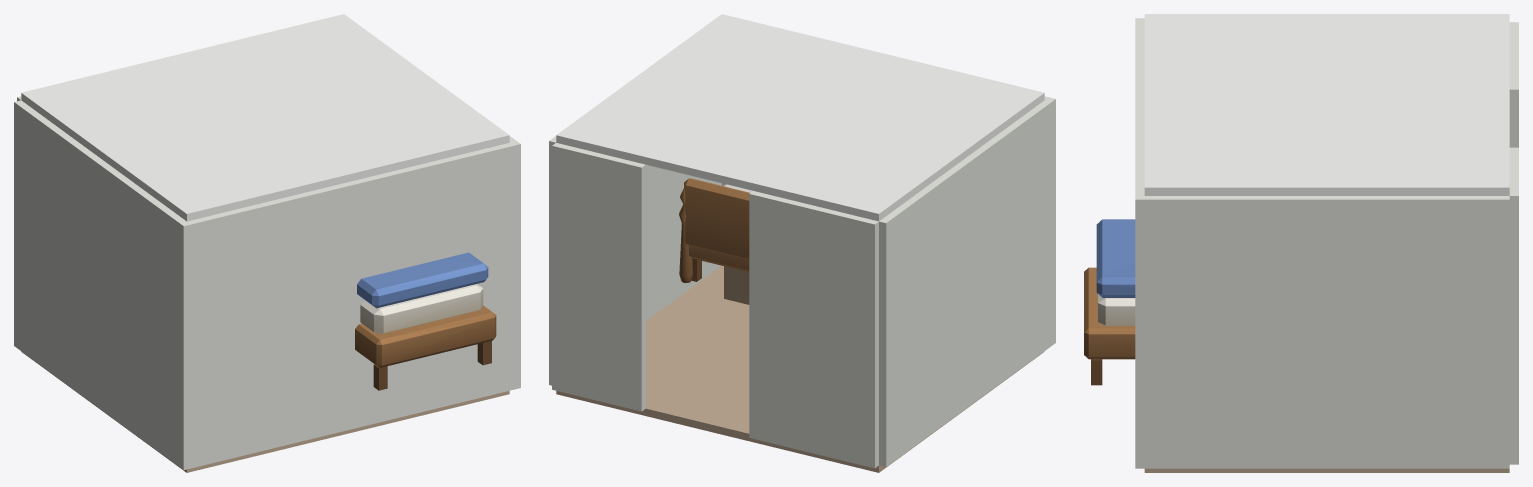
Rendered from y2-007-od-bedroom.glb.
The picture shows the model from 3 angles, left to right: view 1: azimuth 30°, elevation 25°; view 2: azimuth 150°, elevation 25°; view 3: azimuth 270°, elevation 25°; orthographic projection. The views are drawn at different scales.
Parts seen in each view (by area): view 1: BedroomWall_Back, BedroomCeiling, BedroomWall_Left, int_bed_01, BedroomFloor; view 2: BedroomCeiling, BedroomWall_Left, BedroomWall_FrontL, BedroomWall_FrontR, BedroomFloor, BedroomWall_Right, int_bed_01, BedroomWall_Back, Nightstand; view 3: BedroomWall_Right, BedroomCeiling, int_bed_01, BedroomWall_Back, BedroomWall_FrontR, BedroomFloor, BedroomWall_FrontL.
Part boxes in pixels (x1,y1,x2,y2): BedroomWall_Back: (179,141,520,469); BedroomCeiling: (21,14,509,221); BedroomWall_Left: (14,100,186,466); int_bed_01: (355,252,496,390); BedroomFloor: (21,351,509,472); BedroomCeiling: (556,14,1044,221); BedroomWall_Left: (879,100,1051,466); BedroomWall_FrontL: (749,191,878,468); BedroomWall_FrontR: (552,143,645,411); BedroomFloor: (556,265,1044,472); BedroomWall_Right: (549,136,721,385); int_bed_01: (679,178,752,282); BedroomWall_Back: (722,96,1055,345); Nightstand: (724,266,749,304); BedroomWall_Right: (1144,196,1509,468); BedroomCeiling: (1144,14,1509,195); int_bed_01: (1084,219,1135,385); BedroomWall_Back: (1135,18,1144,468); BedroomWall_FrontR: (1509,147,1518,464); BedroomFloor: (1144,468,1509,472); BedroomWall_FrontL: (1509,22,1518,147).
Size of the model in its own units: 3.76 by 2.76 by 3.81.
